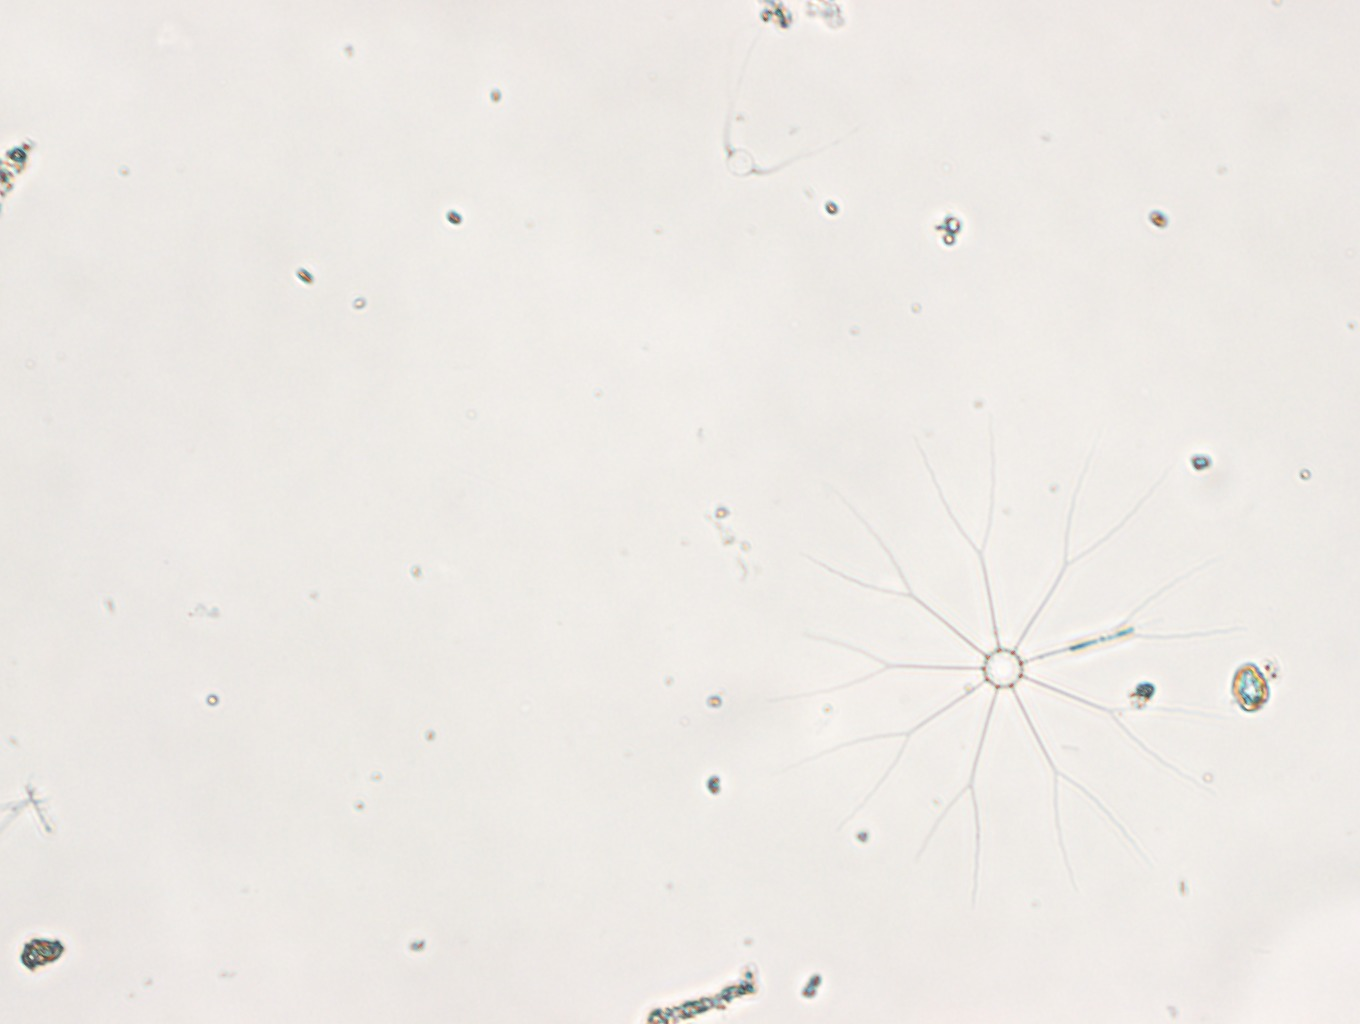bacteriastrum: (774, 418, 1247, 910)
